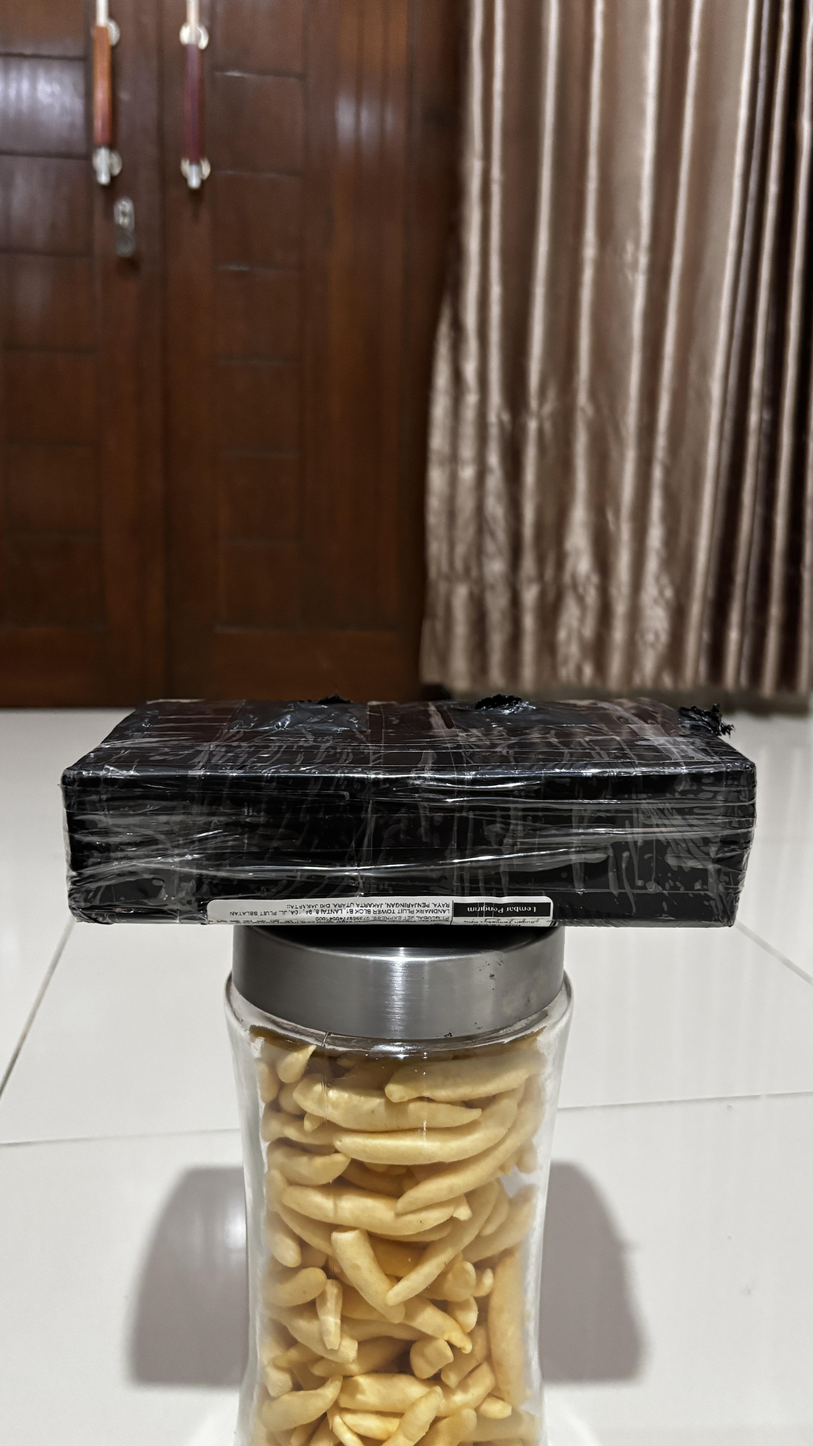damaged package: (460, 695, 534, 717), (683, 705, 728, 736)
undamaged: (45, 681, 777, 936)
